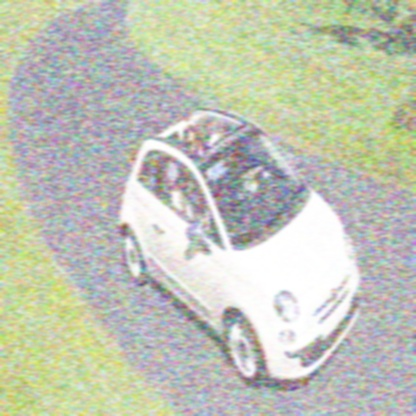Vehicle: (118, 106, 363, 392)
